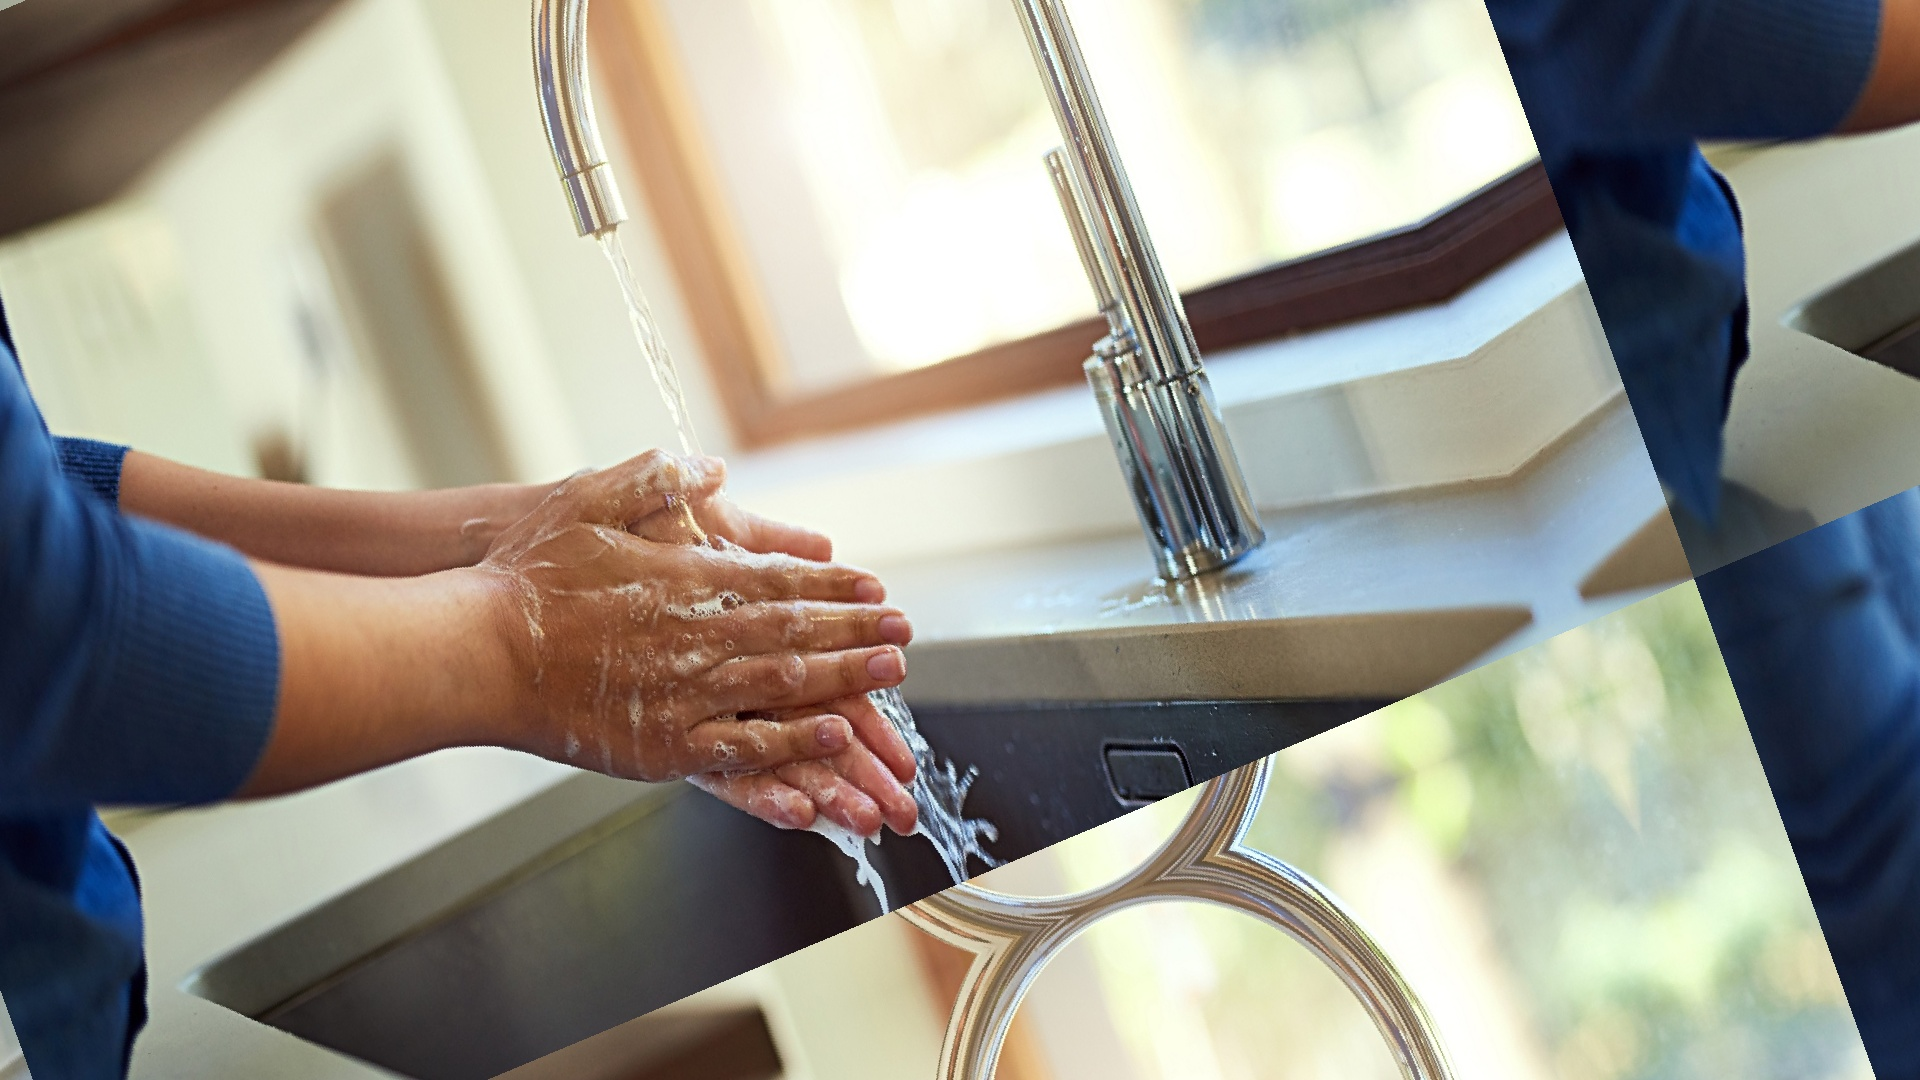washing hand: (274, 0, 1226, 1004)
